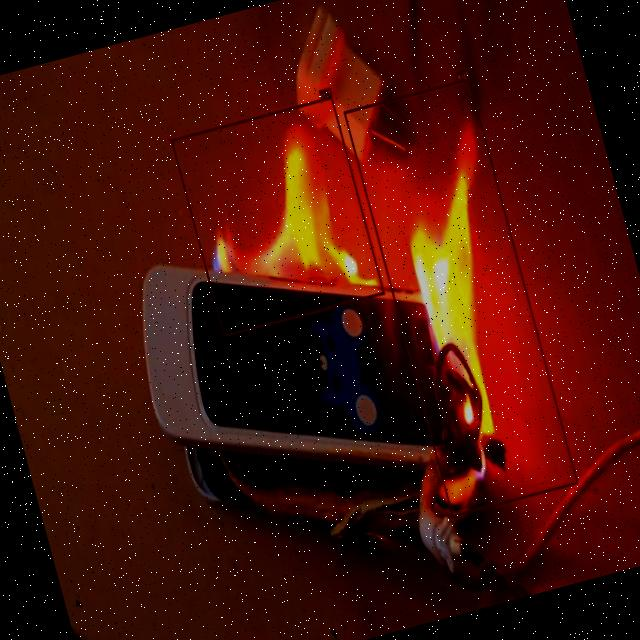fire: (344, 78, 578, 516), (171, 96, 384, 336)
